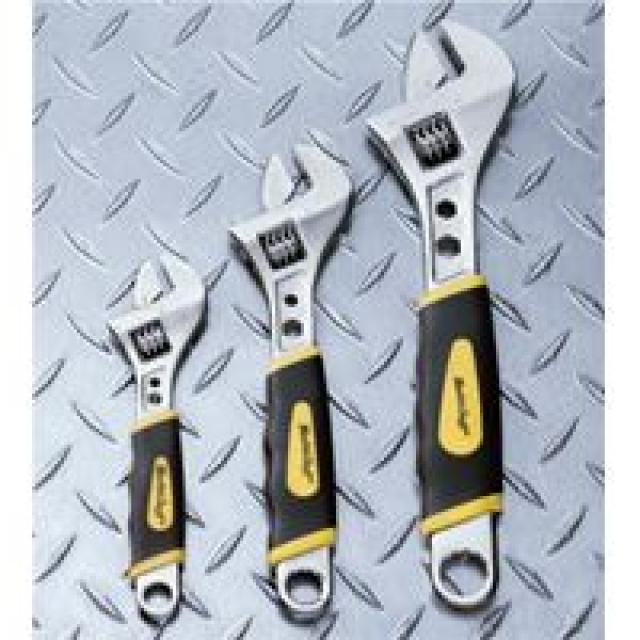wrench: (354, 14, 640, 640), (226, 140, 392, 624), (70, 237, 229, 616)
